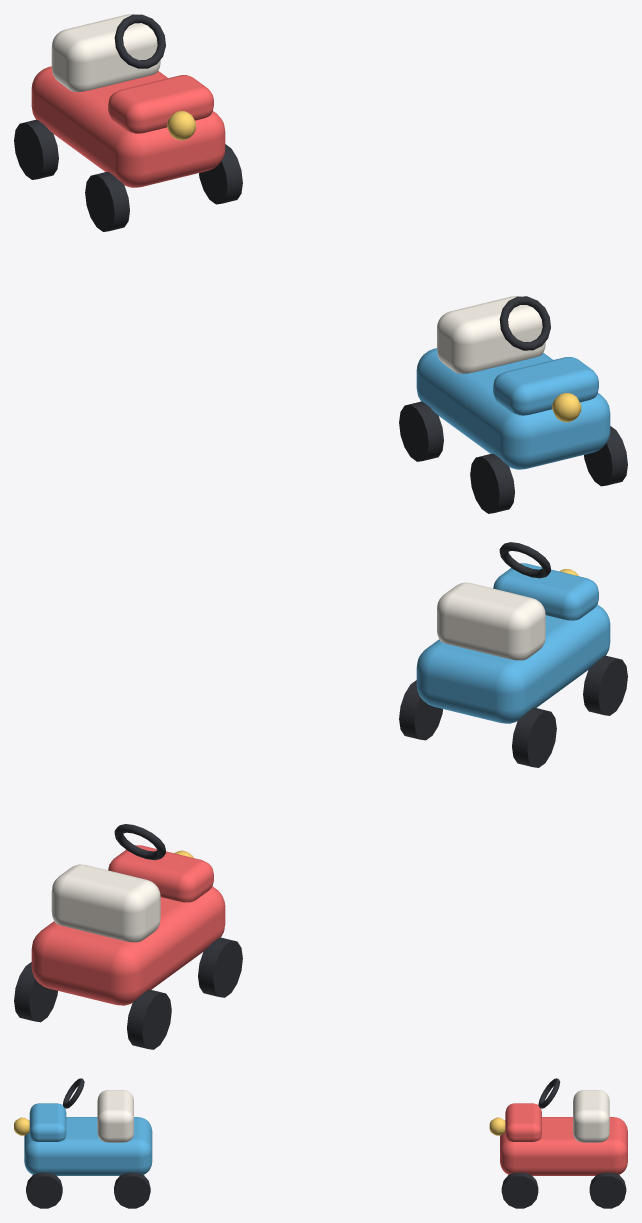
File: kspring-cars.glb
The picture shows the model from 3 angles, top to bottom: view 1: azimuth 30°, elevation 25°; view 2: azimuth 150°, elevation 25°; view 3: azimuth 270°, elevation 25°; orthographic projection. The views are drawn at different scales.
Bounding box in the file's own units: 0.5 × 0.6583 × 3.36.
